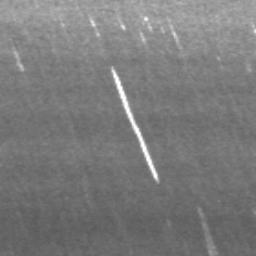Bright scratch: (111, 68, 158, 182), (199, 211, 218, 253), (13, 49, 24, 71)
